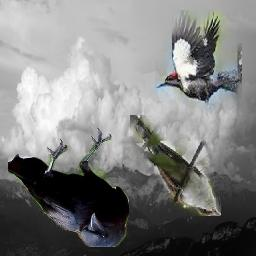Crow: (9, 127, 130, 247)
Cuckoo: (131, 116, 222, 217)
Woodpecker: (156, 11, 243, 120)
